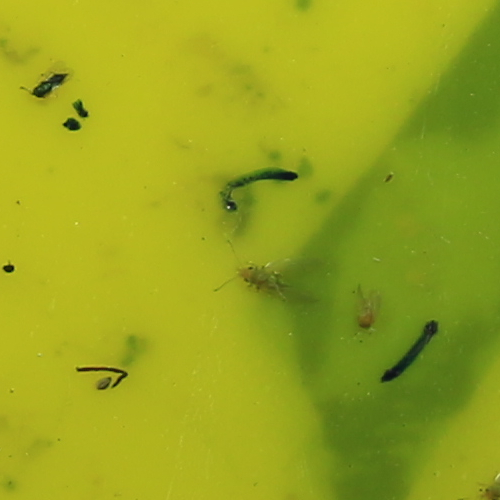Glycaspis: (231, 265, 289, 291)
Psyllaephagus: (33, 70, 70, 100)
